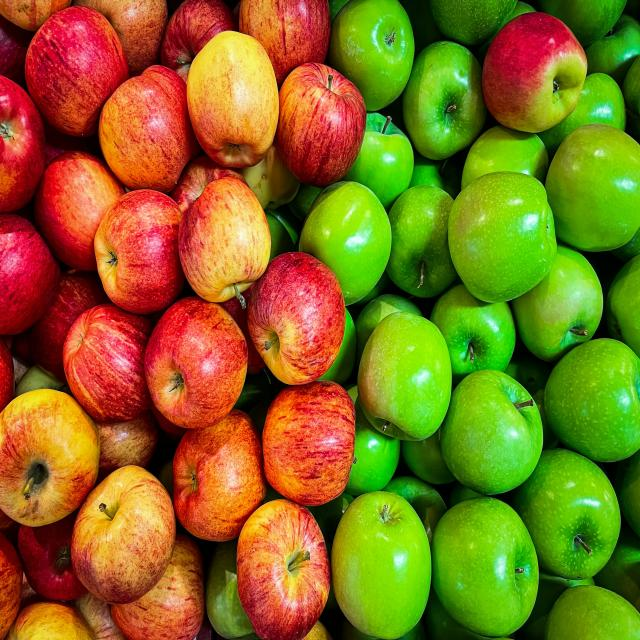Green Apple: (431, 497, 541, 640), (331, 491, 432, 640), (447, 171, 560, 302), (440, 369, 544, 494), (358, 312, 454, 438), (543, 338, 640, 462), (295, 182, 393, 303), (403, 40, 489, 159), (327, 1, 415, 111), (545, 584, 640, 640), (342, 430, 401, 493)
Red Apple: (20, 3, 254, 500), (206, 499, 332, 640), (70, 465, 177, 603), (144, 297, 249, 432), (25, 5, 130, 138), (481, 12, 589, 133), (187, 31, 280, 167), (262, 376, 356, 507), (177, 174, 273, 301), (93, 188, 186, 315), (275, 61, 367, 186), (1, 211, 62, 337)
